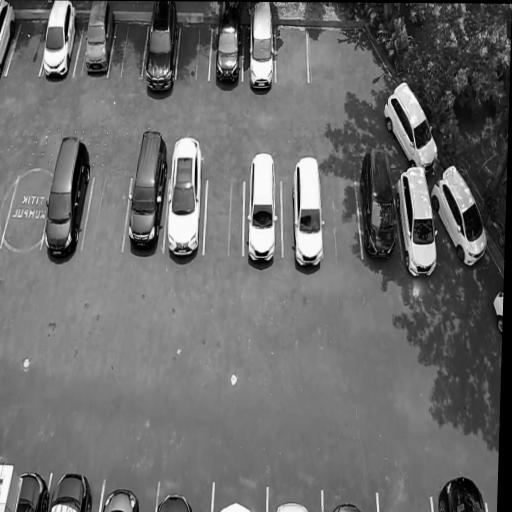Car: (427, 163, 498, 278), (41, 128, 93, 264), (379, 79, 443, 175), (125, 123, 170, 259), (392, 170, 444, 282), (164, 135, 205, 269), (355, 147, 400, 266), (138, 1, 181, 97), (291, 153, 325, 273), (245, 146, 277, 268), (38, 0, 81, 82), (81, 1, 117, 83), (212, 2, 243, 93), (247, 2, 277, 96), (433, 474, 487, 512), (49, 471, 96, 512), (0, 0, 19, 81), (12, 471, 49, 512), (100, 485, 149, 512), (155, 489, 198, 512), (490, 271, 503, 345), (218, 496, 255, 512), (329, 497, 366, 512), (275, 497, 311, 512)
Space Available: (0, 174, 50, 250), (82, 177, 132, 251), (204, 174, 243, 255), (321, 183, 362, 257), (109, 19, 147, 78), (176, 21, 212, 82), (10, 20, 47, 73), (275, 28, 309, 83), (376, 489, 432, 512)
